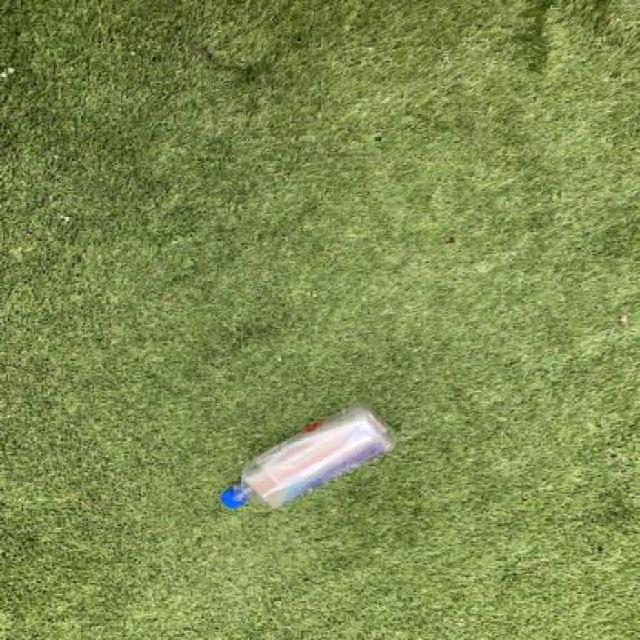trash: (214, 401, 408, 513)
